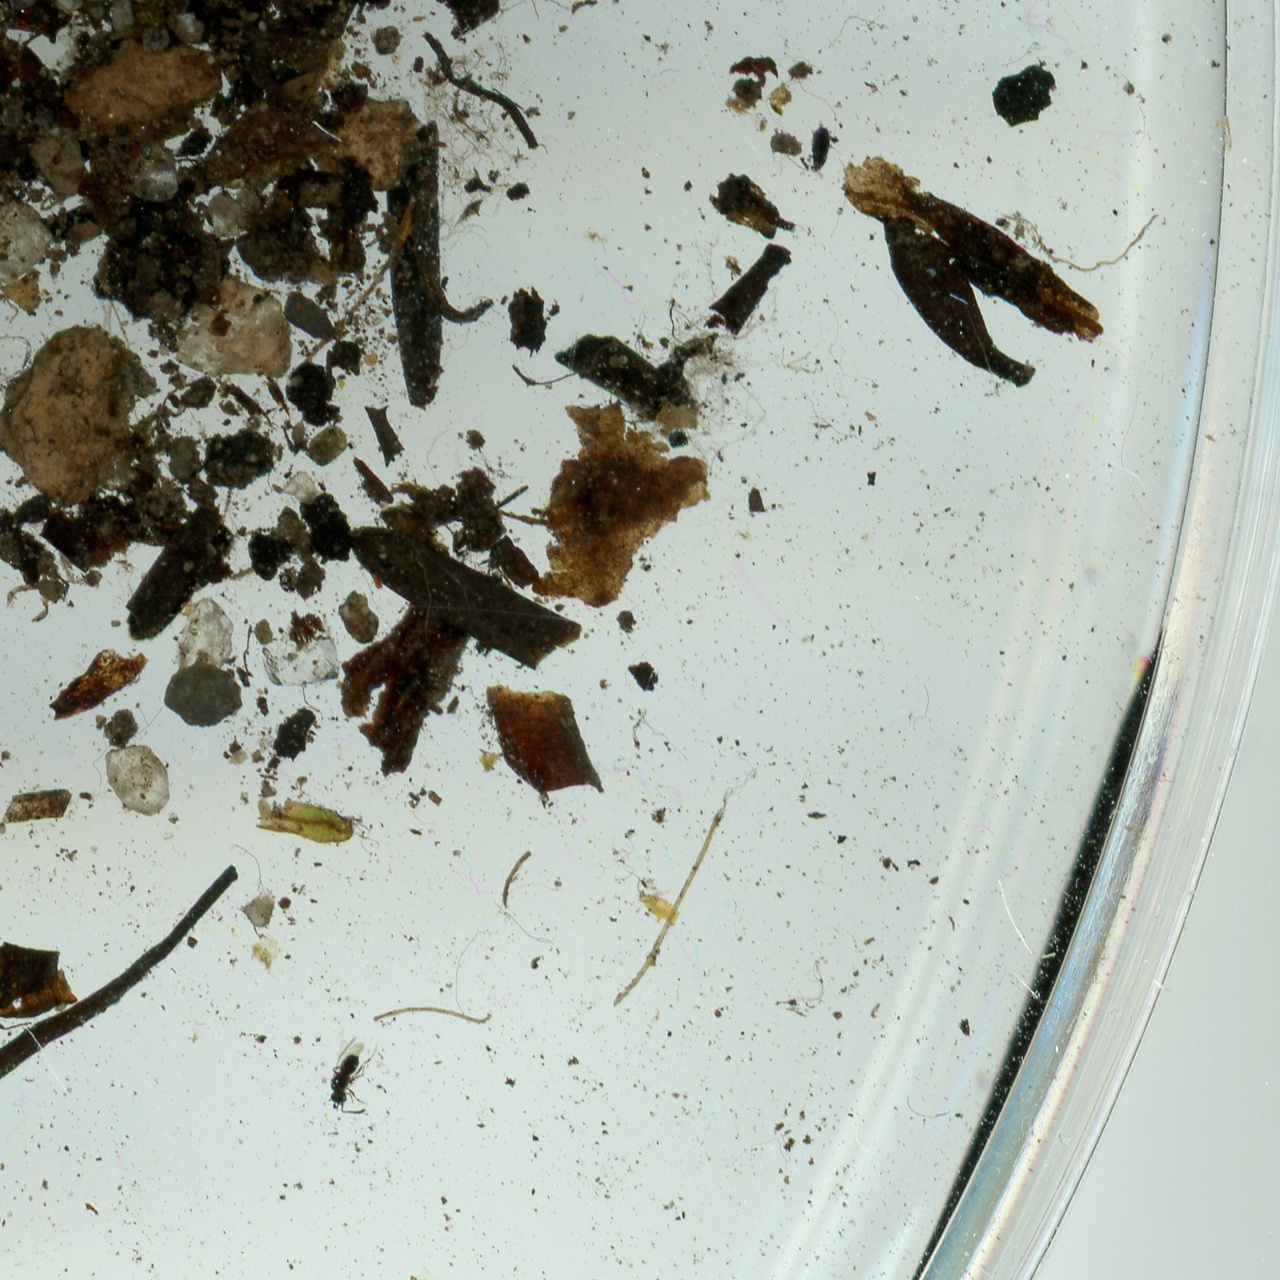arthropod: (327, 1036, 378, 1115)
